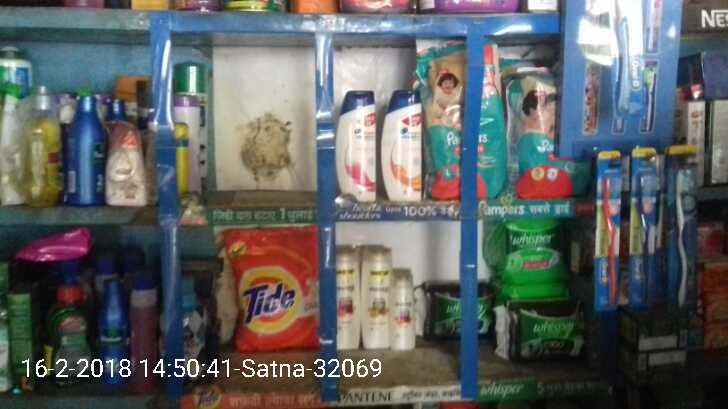beauty: (381, 85, 423, 203), (335, 87, 376, 204), (359, 244, 391, 348), (329, 247, 361, 350), (392, 267, 414, 349)
home: (224, 226, 323, 352)
pharmacy: (419, 47, 503, 197), (502, 299, 587, 367), (666, 143, 698, 309), (499, 218, 571, 286), (422, 279, 489, 341), (593, 152, 619, 310), (629, 152, 653, 307)
